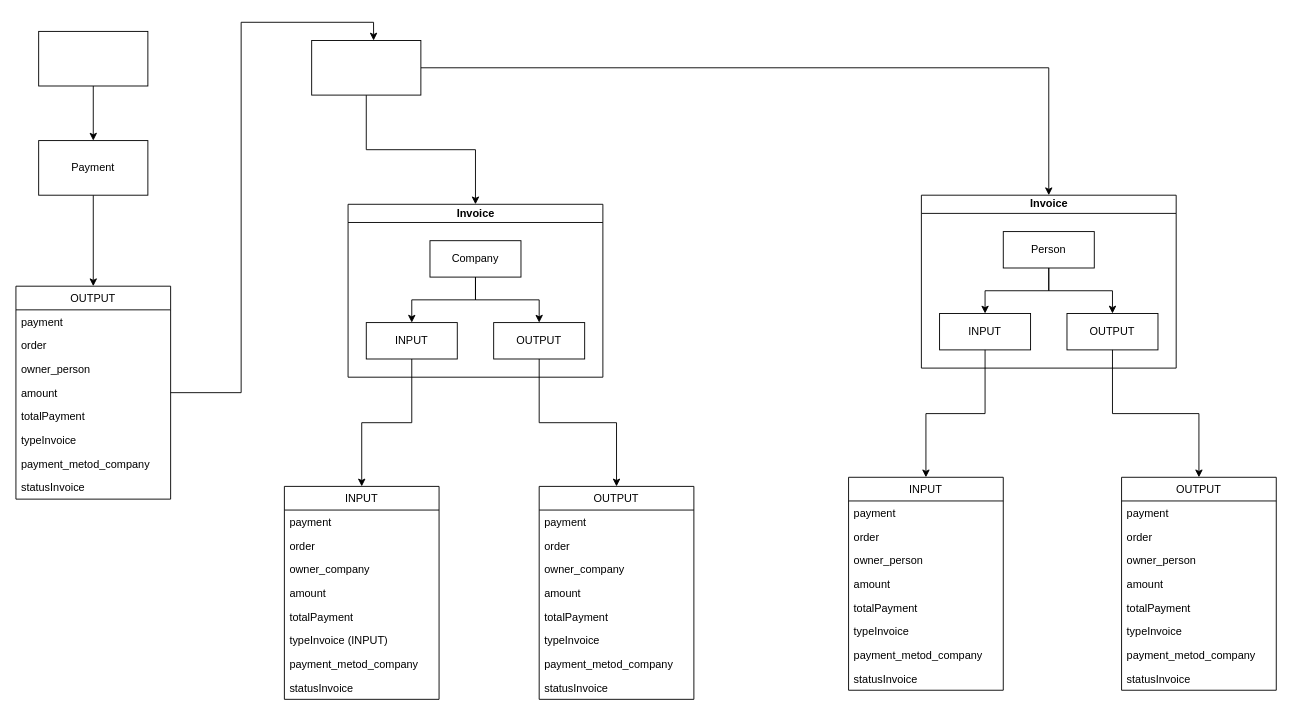
Image size: 1292x718. Some labels were removed from this diagram. The box of each missing label's shape, as (x1, y1, x2, y2) in pixels:
Company / Person: (311, 40, 421, 95)
Customer: (38, 30, 148, 86)
